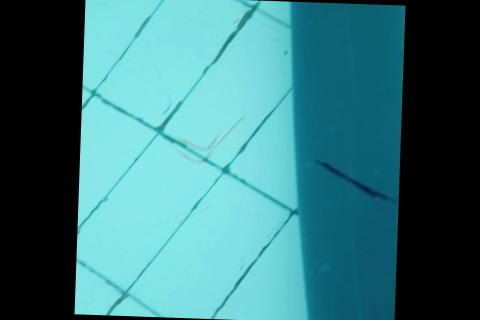keretakan: (315, 159, 400, 205)
